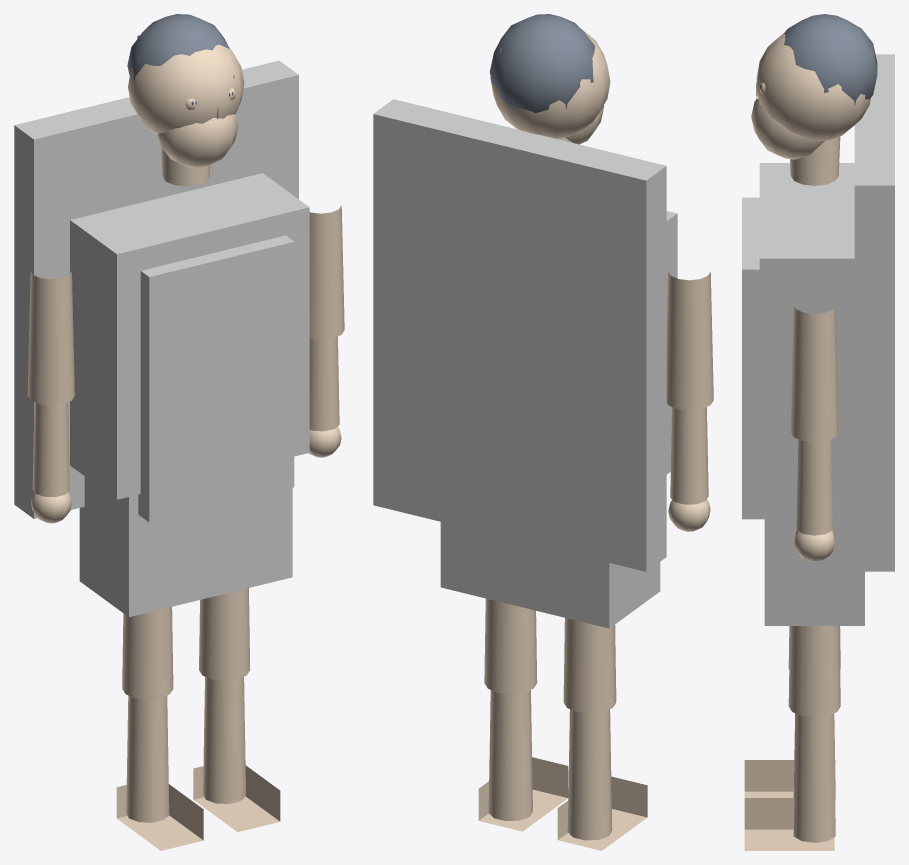
The model's file is body.glb.
The picture shows the model from 3 angles, left to right: view 1: azimuth 30°, elevation 25°; view 2: azimuth 150°, elevation 25°; view 3: azimuth 270°, elevation 25°; orthographic projection. The views are drawn at different scales.
Visible parts, largest first — view 1: Cloth, Skin, Hair; view 2: Cloth, Skin, Hair; view 3: Cloth, Skin, Hair.
Part boxes in pixels (x1,y1,x2,y2): Cloth: (14, 60, 309, 617); Skin: (27, 44, 344, 850); Hair: (127, 14, 234, 79); Cloth: (373, 99, 677, 628); Skin: (478, 30, 713, 850); Hair: (490, 14, 594, 113); Cloth: (742, 54, 894, 625); Skin: (744, 33, 870, 850); Hair: (784, 14, 877, 105).
Bounding box in the file's own units: 0.7283 × 1.77 × 0.305.
